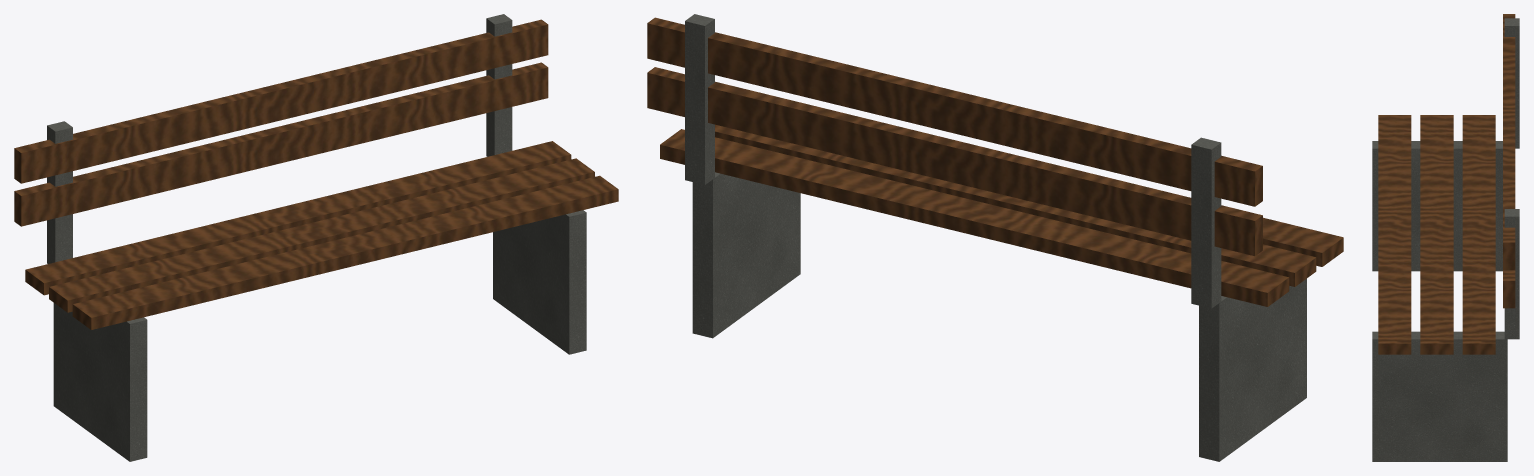
The model's file is bench.glb.
3 renders of one model, left to right at view 1: azimuth 30°, elevation 25°; view 2: azimuth 150°, elevation 25°; view 3: azimuth 270°, elevation 25°, orthographic. The views are drawn at different scales.
Visible parts, largest first — view 1: bench; view 2: bench; view 3: bench.
Boxes of the visible parts, bbox=[...] form: bench: bbox=[14, 14, 618, 461]; bench: bbox=[647, 14, 1343, 461]; bench: bbox=[1372, 14, 1519, 461].
Bounding box in the file's own units: 1.8 × 0.9 × 0.49.
Materials: 2 (2 with a texture image).
